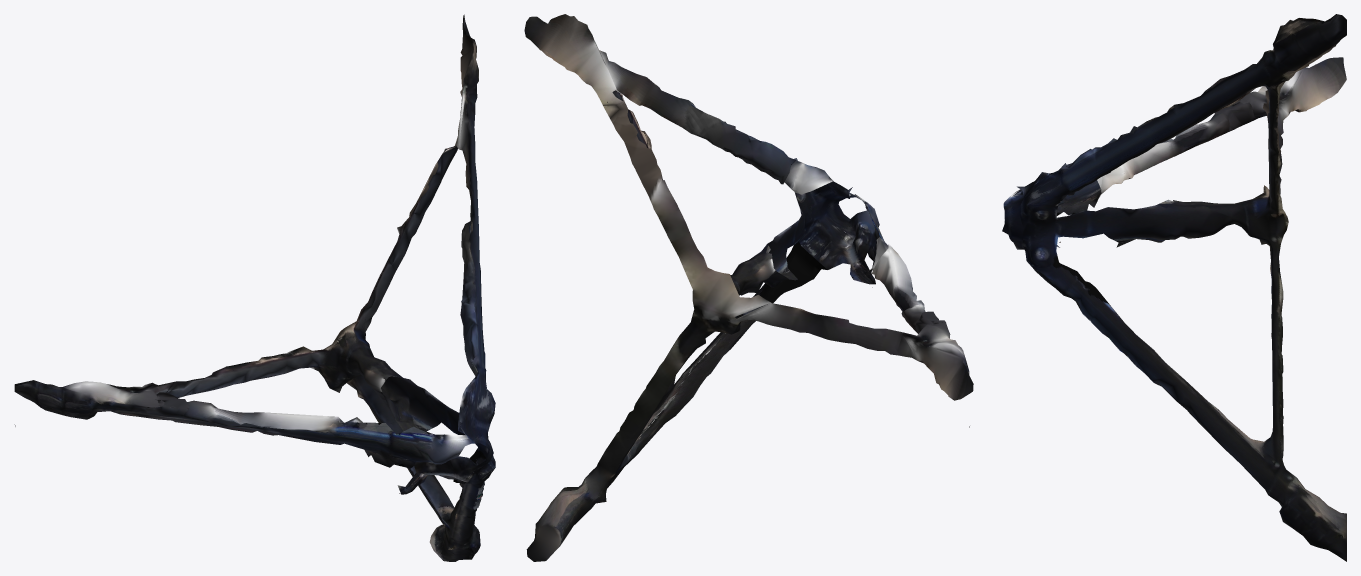
Rendered from tripod_base.dae.
The picture shows the model from 3 angles, left to right: view 1: azimuth 30°, elevation 25°; view 2: azimuth 150°, elevation 25°; view 3: azimuth 270°, elevation 25°; orthographic projection.
Visible parts, largest first — view 1: tripod_base; view 2: tripod_base; view 3: tripod_base.
Part boxes in pixels (bbox=[...]): tripod_base: bbox=[14, 14, 495, 561]; tripod_base: bbox=[524, 14, 973, 561]; tripod_base: bbox=[1002, 14, 1346, 561].
Bounding box in the file's own units: 0.6498 × 0.4274 × 0.7521.
Materials: 1 (1 with a texture image).
